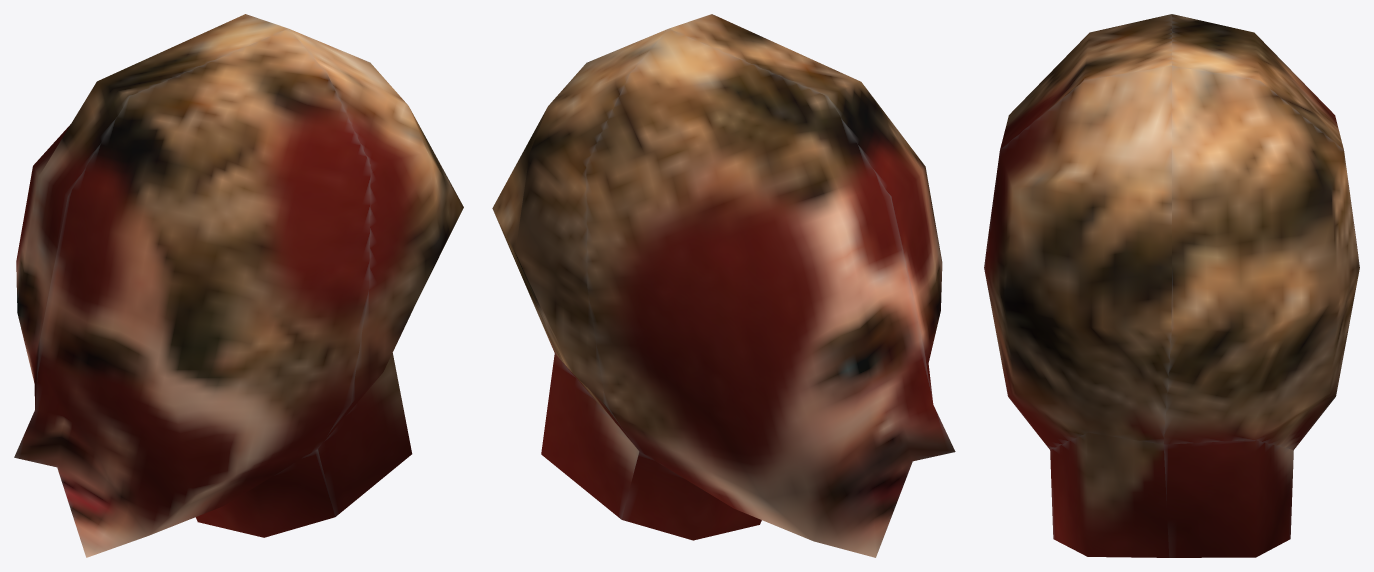
File: Head.fbx
3 renders of one model, left to right at view 1: azimuth 30°, elevation 25°; view 2: azimuth 150°, elevation 25°; view 3: azimuth 270°, elevation 25°, orthographic. The views are drawn at different scales.
Visible parts, largest first — view 1: Cube.038; view 2: Cube.038; view 3: Cube.038.
Boxes of the visible parts, x1,y1,x2,y2 form: Cube.038: (14,14,463,557); Cube.038: (492,14,955,557); Cube.038: (984,14,1359,557).
Size of the model in its own units: 148 by 161 by 107.
